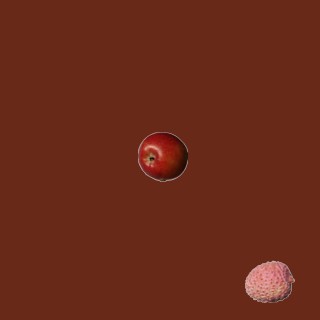Apple Braeburn: (137, 131, 187, 181)
Lychee: (244, 256, 294, 306)
